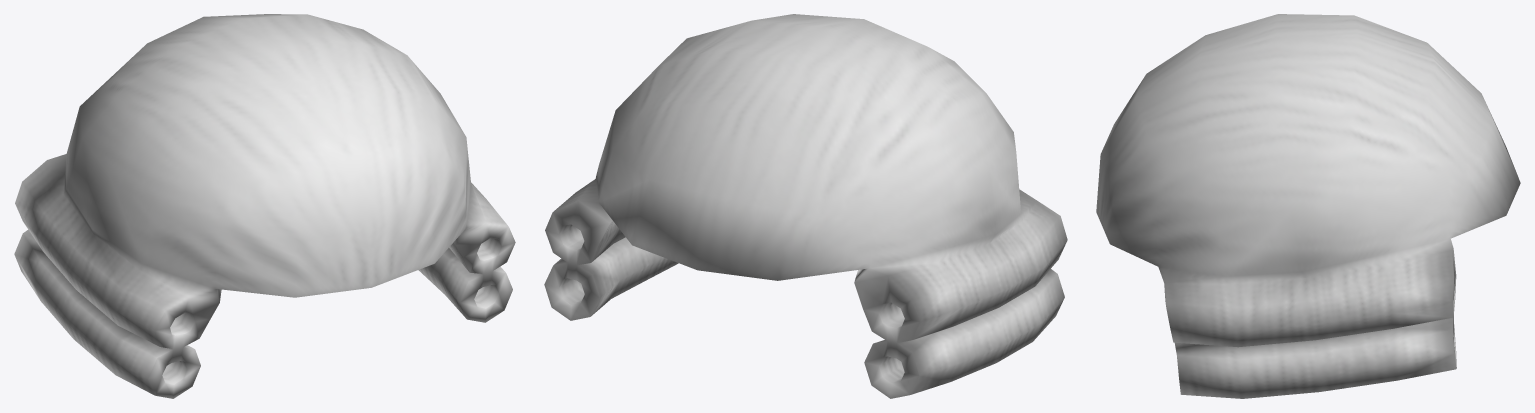
3 renders of one model, left to right at view 1: azimuth 30°, elevation 25°; view 2: azimuth 150°, elevation 25°; view 3: azimuth 270°, elevation 25°, orthographic. The views are drawn at different scales.
Visible parts, largest first — view 1: geometry_0; view 2: geometry_0; view 3: geometry_0.
Boxes of the visible parts, x1,y1,x2,y2 form: geometry_0: (14,14,515,398); geometry_0: (544,14,1067,398); geometry_0: (1096,14,1520,398).
Bounding box in the file's own units: 1.58 × 1.07 × 1.48.
1 material, 1 textured.
